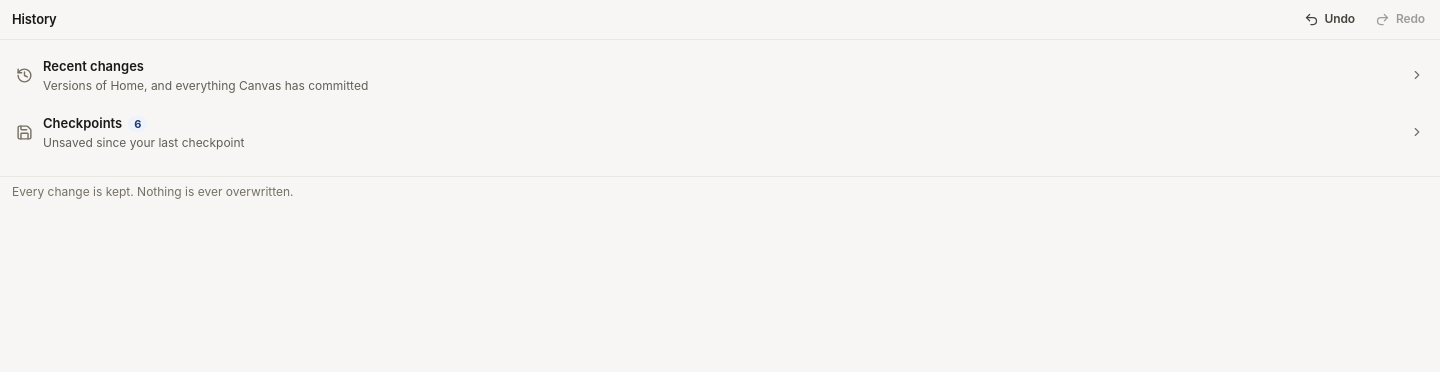
Scenario: History in the sidebar › saves a checkpoint from the sidebar
This screenshot has width=1440, height=372.
Click the button "Checkpoints 6 Unsaved since your last checkpoint" at (83, 123), box x1=8 y1=105 x2=1432 y2=160
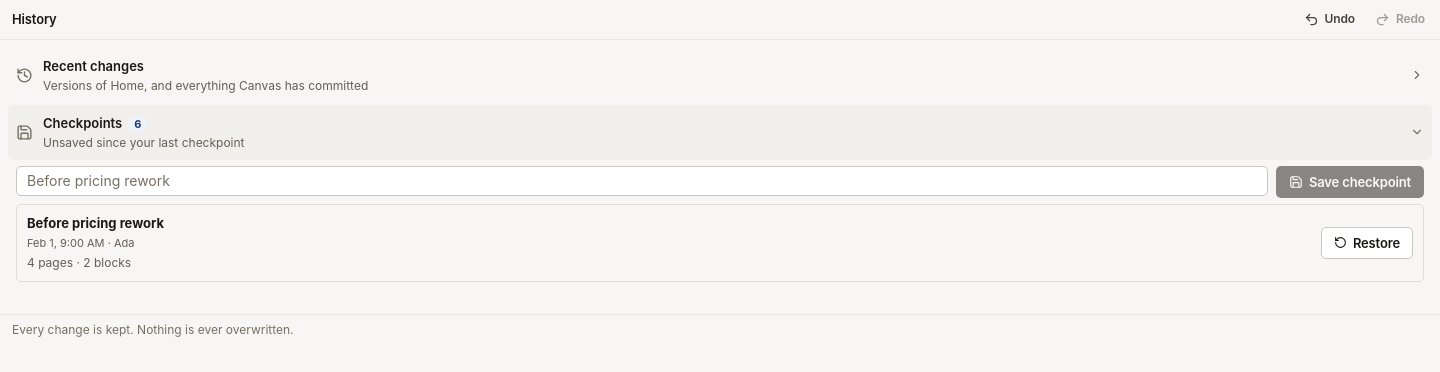
Type "Before rework" into the field named "Checkpoint name" at (642, 181), box x1=16 y1=166 x2=1268 y2=196
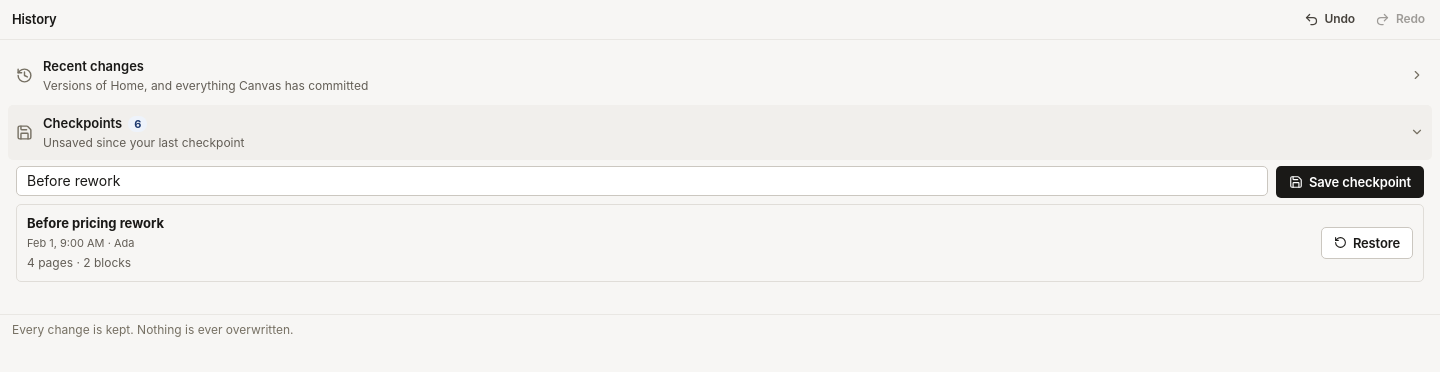
Click the button "Save checkpoint" at (1350, 182), box x1=1276 y1=166 x2=1424 y2=198
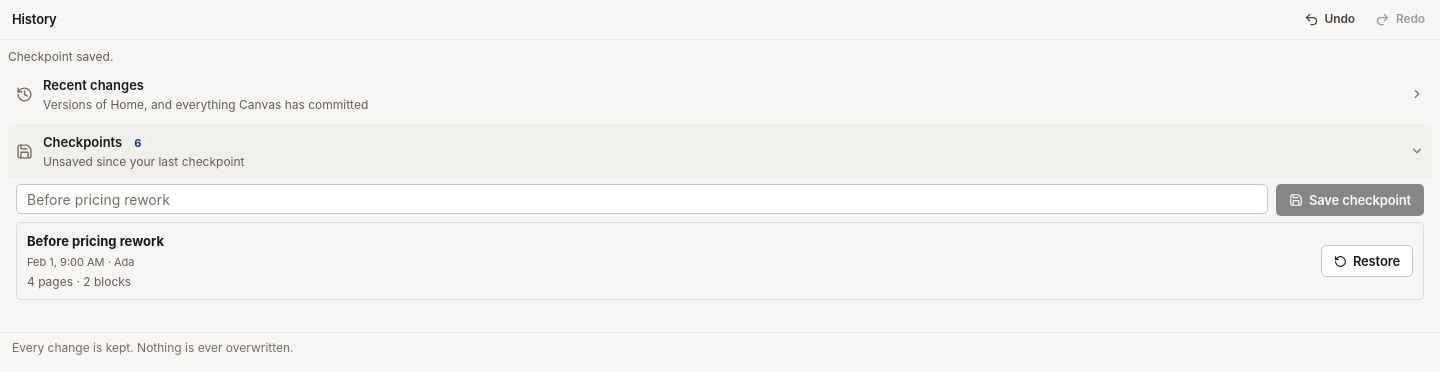
Expected: the message reads "Checkpoint saved.", x1=8 y1=49 x2=113 y2=64
